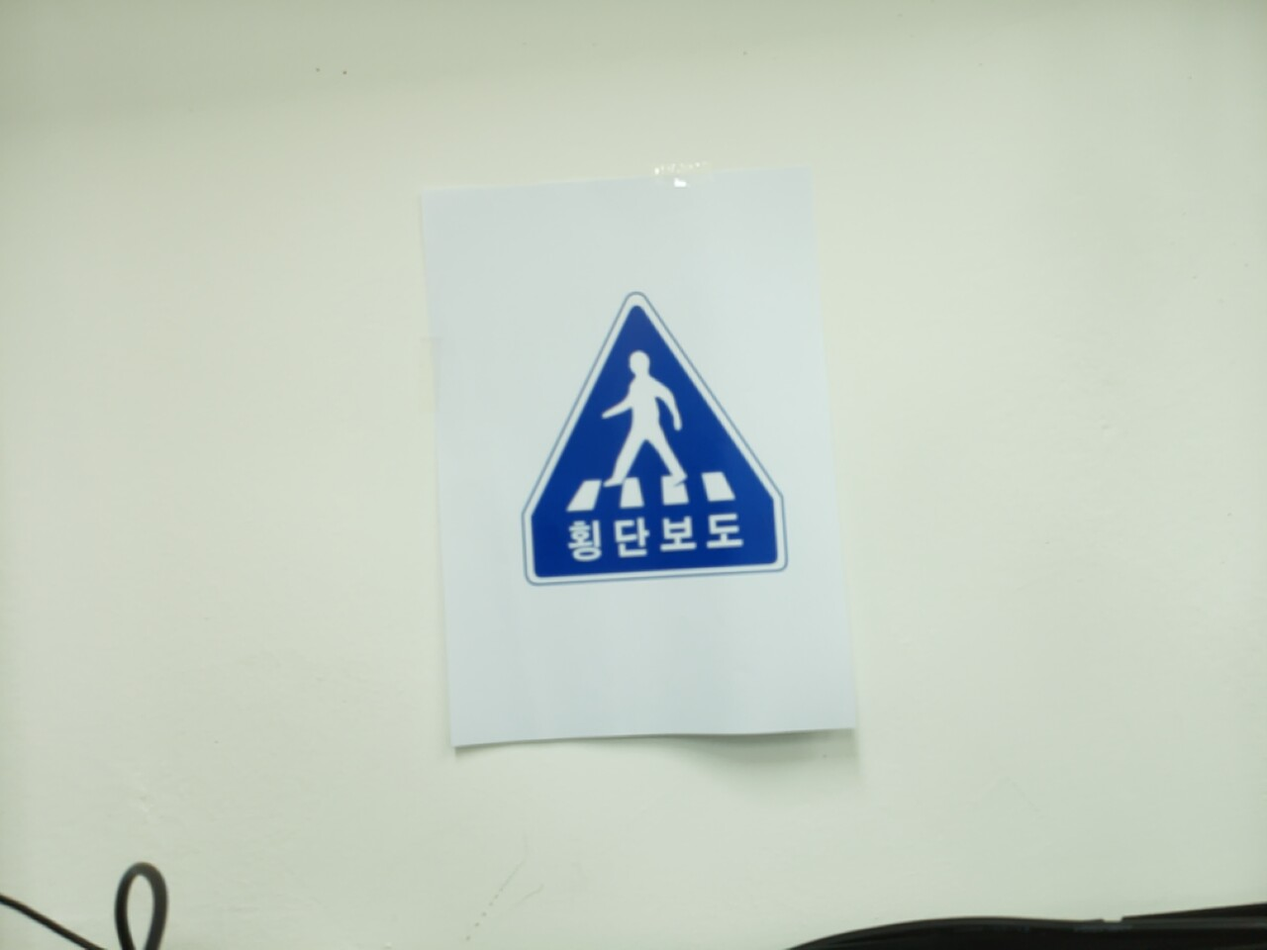crosswalk: (522, 297, 787, 587)
